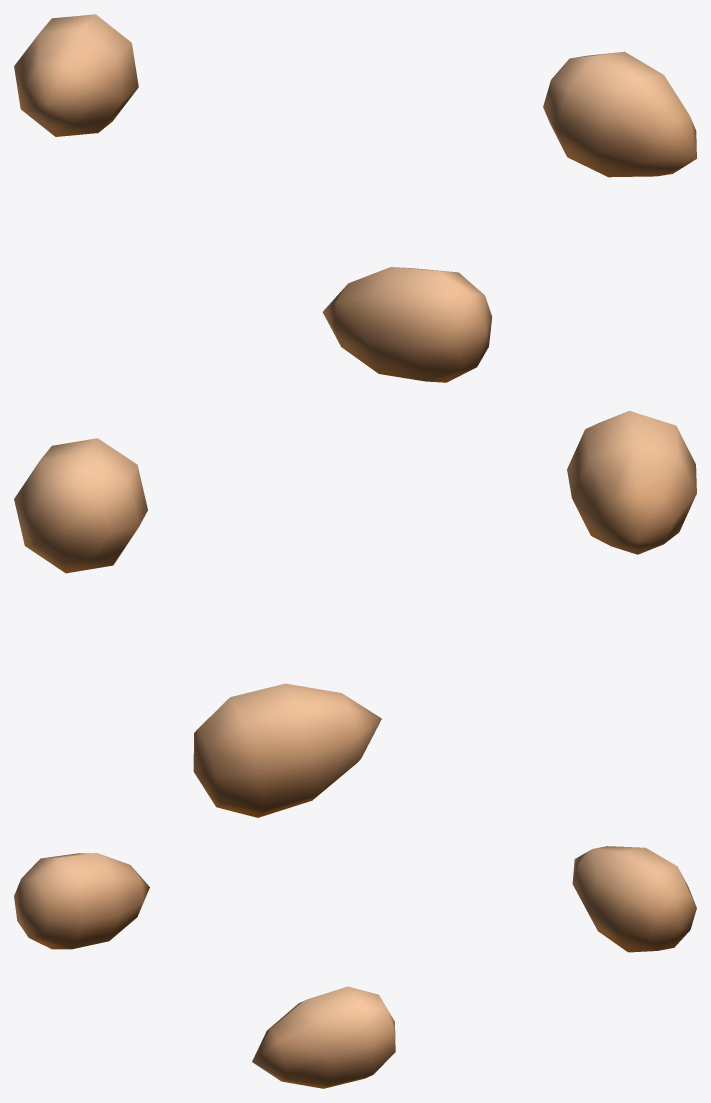
The model's file is tomato_seed.glb.
3 renders of one model, top to bottom at view 1: azimuth 30°, elevation 25°; view 2: azimuth 150°, elevation 25°; view 3: azimuth 270°, elevation 25°, orthographic. The views are drawn at different scales.
Visible parts, largest first — view 1: SM_Tomato_Seed2; view 2: SM_Tomato_Seed2; view 3: SM_Tomato_Seed2.
Part boxes in pixels (box(x1,y1,x2,y2)): SM_Tomato_Seed2: box(14, 14, 696, 382); SM_Tomato_Seed2: box(14, 411, 696, 817); SM_Tomato_Seed2: box(14, 846, 696, 1088).
Size of the model in its own units: 0.2017 by 0.0485 by 0.3005.
Materials: 1 (1 with a texture image).
